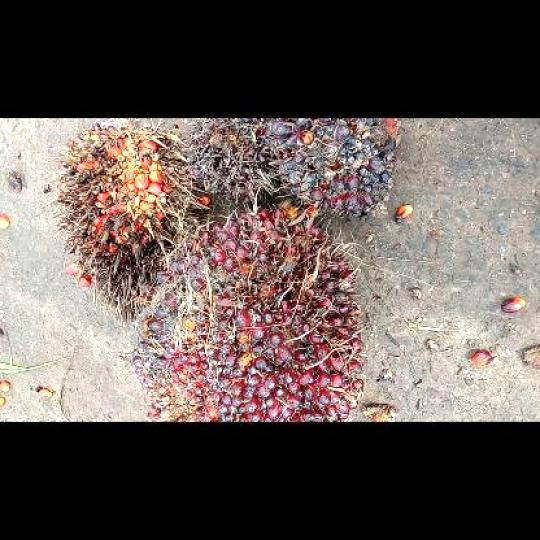masak: (130, 207, 369, 421)
terlalu masak: (46, 118, 206, 331)
